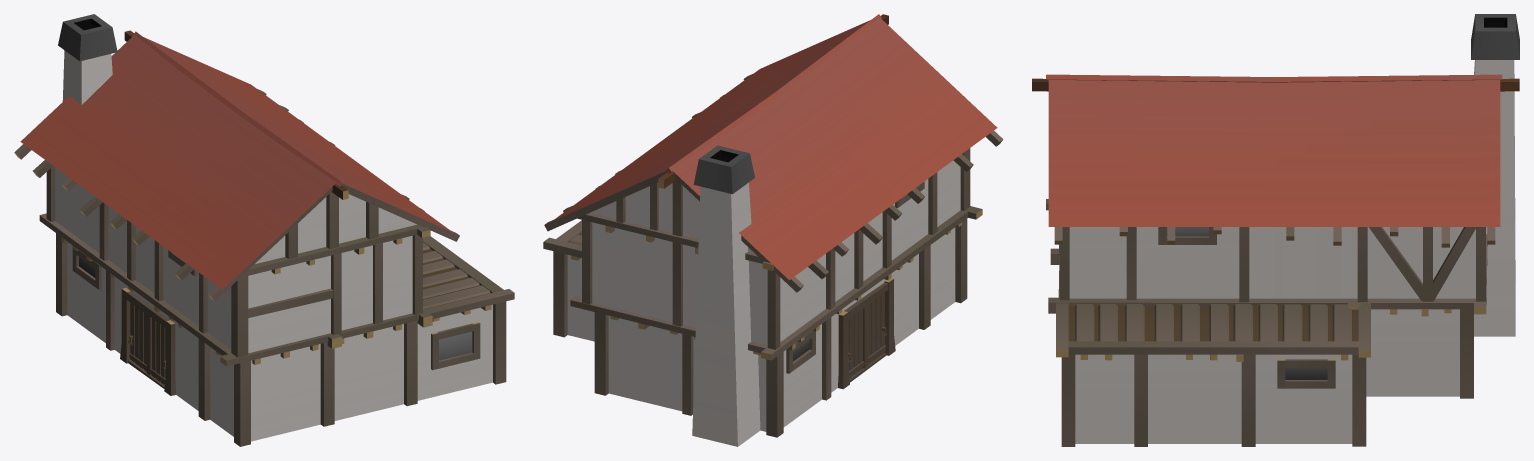
Rendered from House_6_LOD1.fbx.
3 views of the same model, side by side, from view 1: azimuth 30°, elevation 25°; view 2: azimuth 150°, elevation 25°; view 3: azimuth 270°, elevation 25° (orthographic). The views are drawn at different scales.
Visible parts, largest first — view 1: polySurface9615; view 2: polySurface9615; view 3: polySurface9615.
Part boxes in pixels (left/top/right/bottom): polySurface9615: left=14, top=14, right=514, bottom=446; polySurface9615: left=543, top=14, right=1003, bottom=446; polySurface9615: left=1032, top=14, right=1519, bottom=446.
Size of the model in its own units: 1007 by 837 by 1225.
